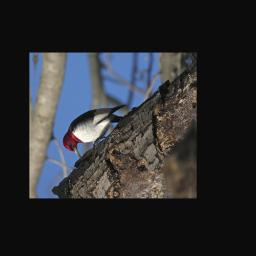Woodpecker: (58, 100, 130, 163)
